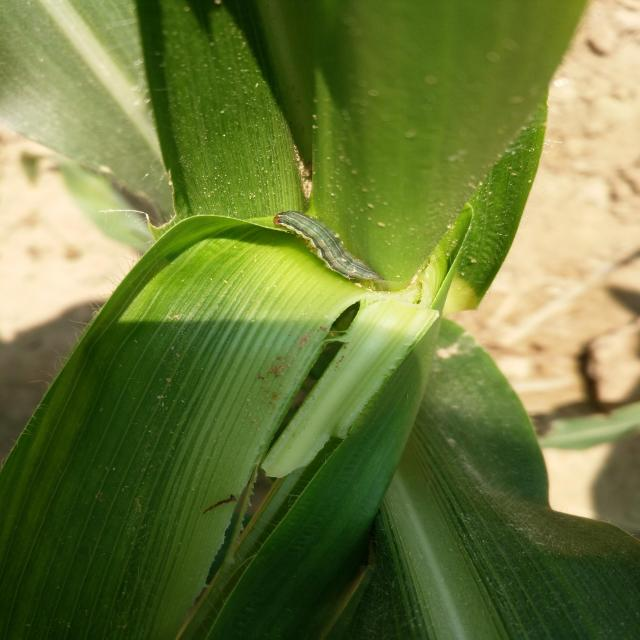pest: (270, 212, 387, 284)
